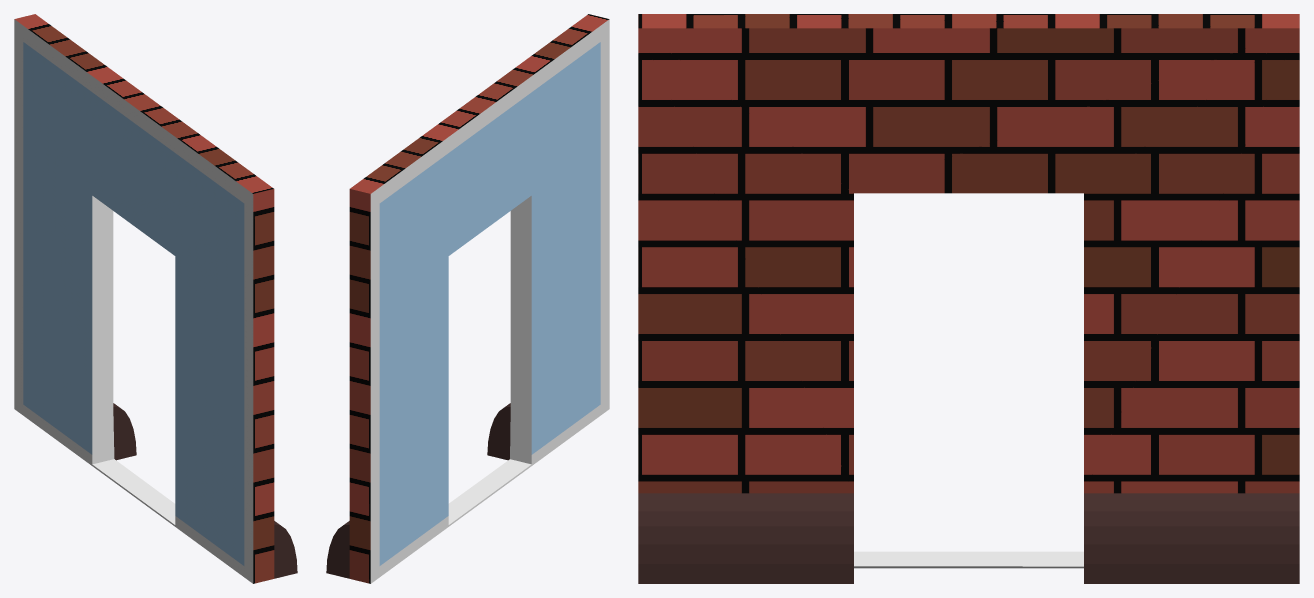
File: Door frame B.fbx
The picture shows the model from 3 angles, left to right: view 1: azimuth 30°, elevation 25°; view 2: azimuth 150°, elevation 25°; view 3: azimuth 270°, elevation 25°; orthographic projection. The views are drawn at different scales.
Parts seen in each view (by area): view 1: Wall-with-door-hole B; view 2: Wall-with-door-hole B; view 3: Wall-with-door-hole B.
Part boxes in pixels (box(x1,y1,x2,y2)): Wall-with-door-hole B: box(14, 14, 297, 583); Wall-with-door-hole B: box(326, 14, 609, 583); Wall-with-door-hole B: box(638, 14, 1299, 583).
Bounding box in the file's own units: 85.83 × 721 × 800.
